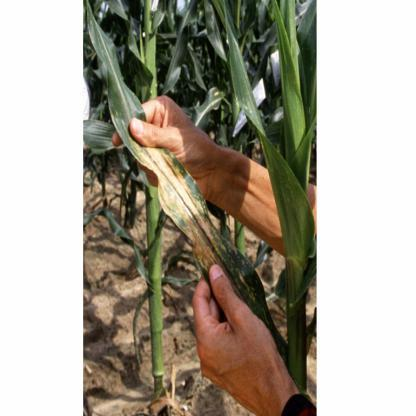Corn leaf blight: (90, 13, 250, 309)
